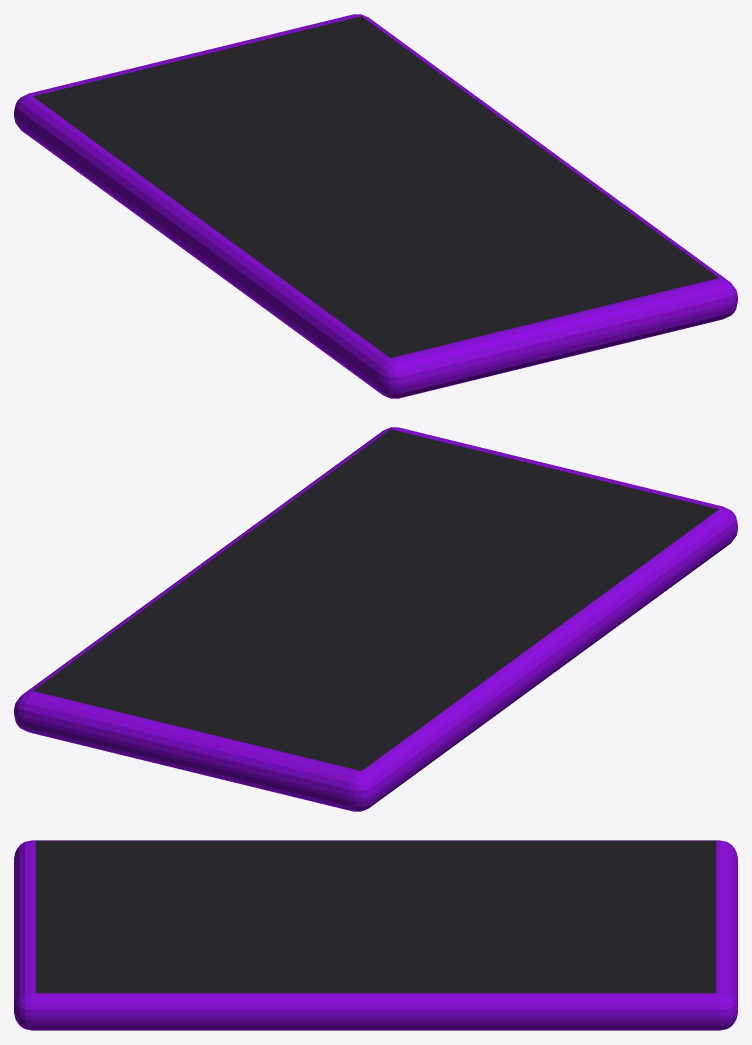
Rendered from Phone_704.glb.
3 renders of one model, top to bottom at view 1: azimuth 30°, elevation 25°; view 2: azimuth 150°, elevation 25°; view 3: azimuth 270°, elevation 25°, orthographic. The views are drawn at different scales.
Visible parts, largest first — view 1: Phone_Screen, Phone_Body; view 2: Phone_Screen, Phone_Body; view 3: Phone_Screen, Phone_Body.
Part boxes in pixels (box(x1,y1,x2,y2)): Phone_Screen: box(33, 16, 718, 357); Phone_Body: box(14, 14, 737, 398); Phone_Screen: box(33, 429, 718, 770); Phone_Body: box(14, 427, 737, 811); Phone_Screen: box(35, 840, 716, 993); Phone_Body: box(14, 840, 737, 1030).
Size of the model in its own units: 0.0793 by 0.0081 by 0.1462.
